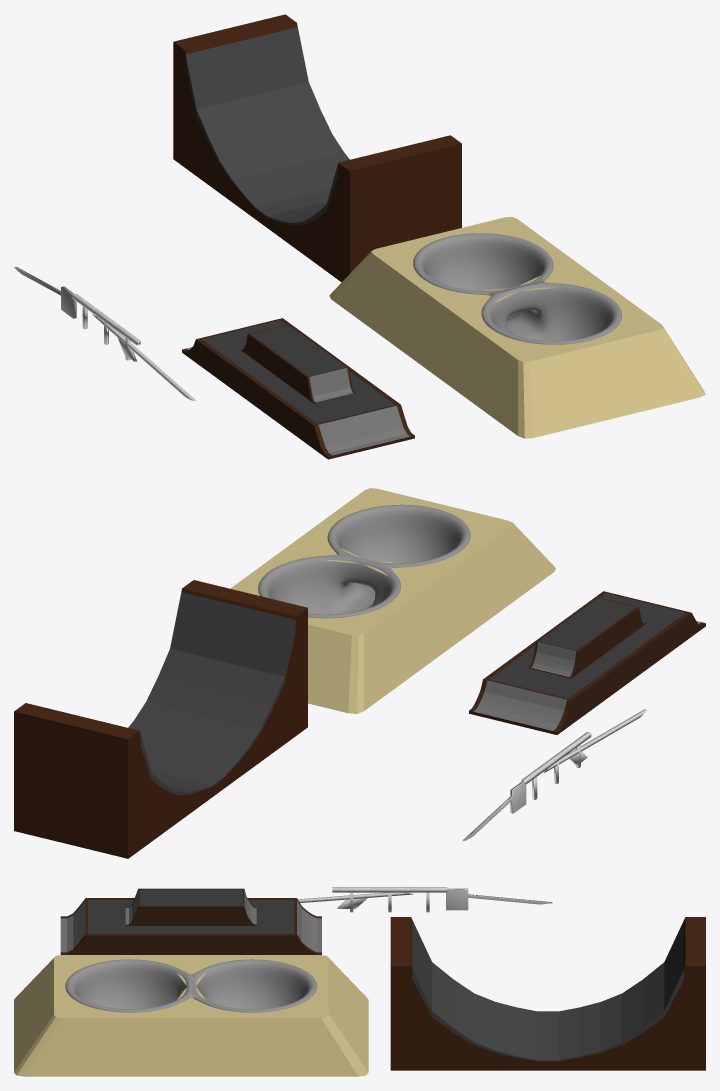
The model's file is Pool.fbx.
The picture shows the model from 3 angles, top to bottom: view 1: azimuth 30°, elevation 25°; view 2: azimuth 150°, elevation 25°; view 3: azimuth 270°, elevation 25°; orthographic projection. The views are drawn at different scales.
Visible parts, largest first — view 1: HalfPipe, PoolausenBoden, Pool, PipenPipe, PipenPipe.001, Sown; view 2: HalfPipe, PoolausenBoden, Pool, PipenPipe, PipenPipe.001, Sown.001, Sown; view 3: PoolausenBoden, HalfPipe, Pool, PipenPipe, PipenPipe.001, Sown.001, Sown, Slidertile.001, Slidertile.002.
Part boxes in pixels (x1,y1,x2,y2): HalfPipe: (173, 14, 461, 282); PoolausenBoden: (329, 216, 705, 438); Pool: (413, 233, 621, 344); PipenPipe: (182, 318, 414, 459); PipenPipe.001: (241, 324, 355, 403); Sown: (92, 314, 195, 400); HalfPipe: (14, 580, 307, 858); PoolausenBoden: (230, 488, 555, 713); Pool: (258, 504, 470, 618); PipenPipe: (469, 591, 705, 734); PipenPipe.001: (528, 597, 645, 678); Sown.001: (462, 781, 526, 840); Sown: (543, 709, 647, 772); PoolausenBoden: (14, 955, 368, 1076); HalfPipe: (390, 917, 705, 1070); Pool: (65, 959, 317, 1012); PipenPipe: (60, 898, 321, 954); PipenPipe.001: (125, 888, 256, 925); Sown.001: (446, 888, 552, 910); Sown: (298, 892, 413, 908); Slidertile.001: (370, 887, 408, 912); Slidertile.002: (409, 887, 447, 912).
Size of the model in its own units: 703 by 200 by 1196.
